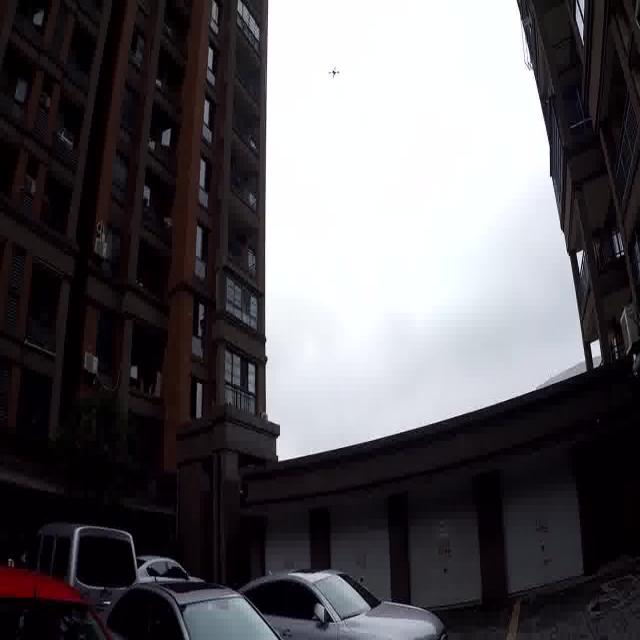drones: (324, 57, 342, 88)
